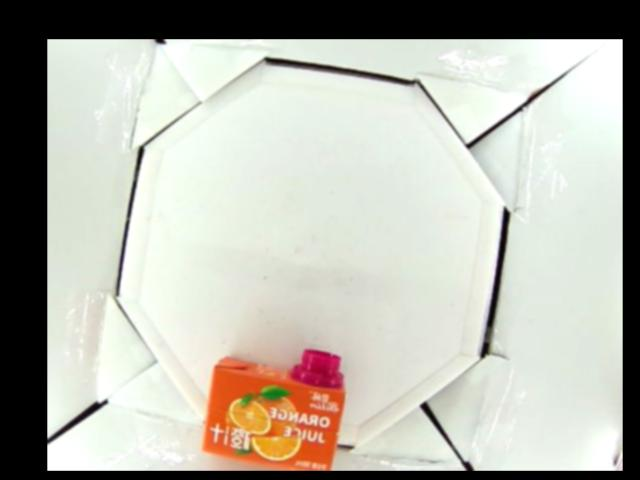Bottle: (198, 349, 345, 468)
